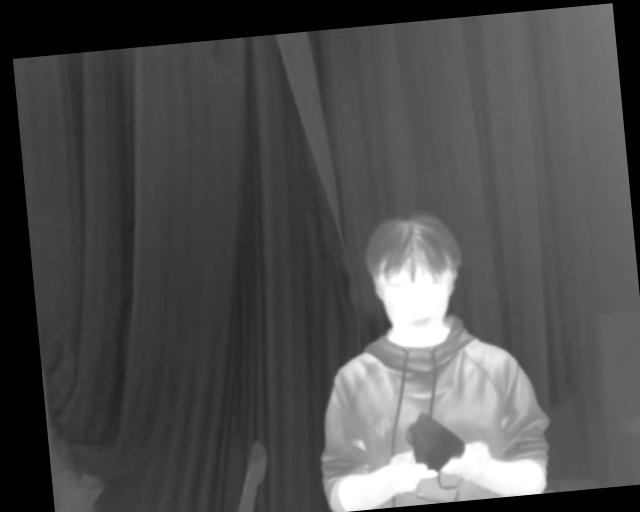face: (363, 211, 463, 341)
